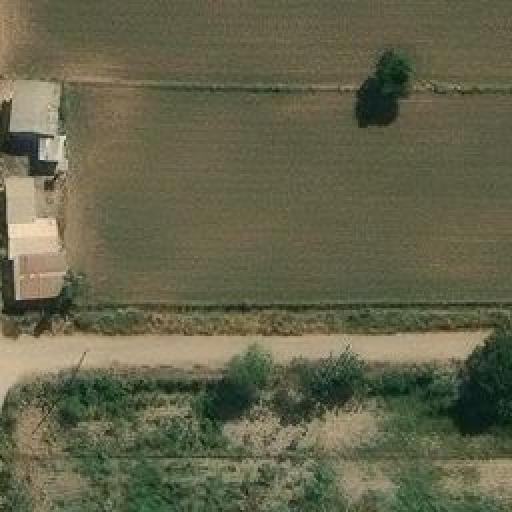manzanas: (0, 76, 72, 312)
